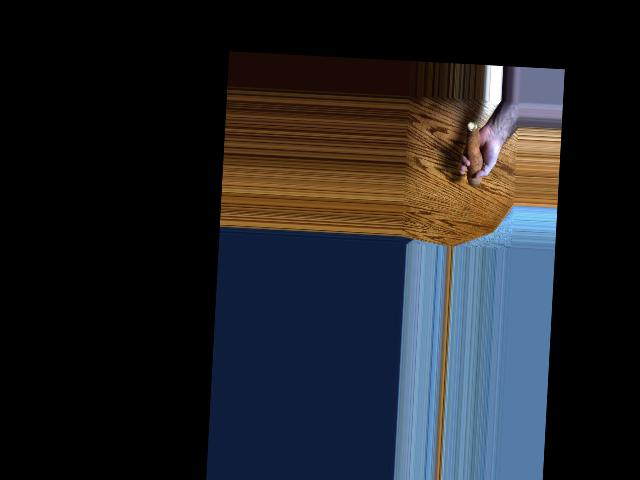sweet_potato: (461, 118, 481, 190)
